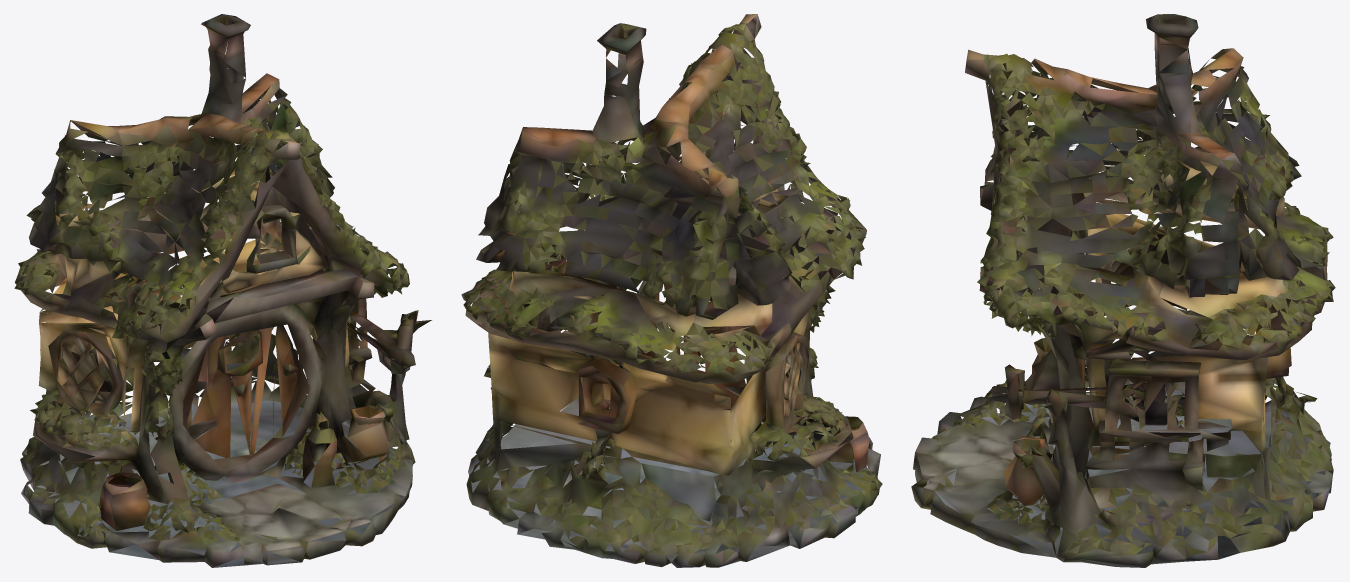
Rendered from Whimsical_Hobbit_Dwel_town.glb.
3 renders of one model, left to right at view 1: azimuth 30°, elevation 25°; view 2: azimuth 150°, elevation 25°; view 3: azimuth 270°, elevation 25°, orthographic. The views are drawn at different scales.
Parts seen in each view (by area): view 1: Whimsical_Hobbit_Dwel; view 2: Whimsical_Hobbit_Dwel; view 3: Whimsical_Hobbit_Dwel.
Boxes of the visible parts, <box> form: Whimsical_Hobbit_Dwel: <box>14,14,431,567</box>; Whimsical_Hobbit_Dwel: <box>461,14,882,567</box>; Whimsical_Hobbit_Dwel: <box>911,14,1335,567</box>.
Bounding box in the file's own units: 1.58 × 1.91 × 1.54.
1 material, 1 textured.
